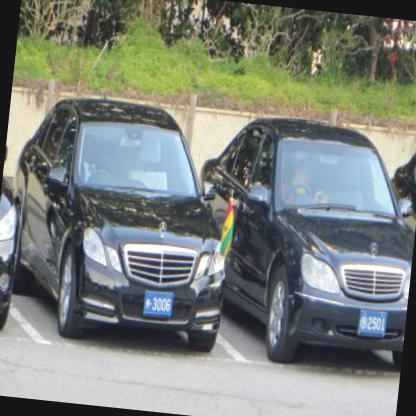car: (0, 83, 245, 355), (177, 104, 415, 369), (369, 121, 415, 345), (0, 136, 29, 335)
